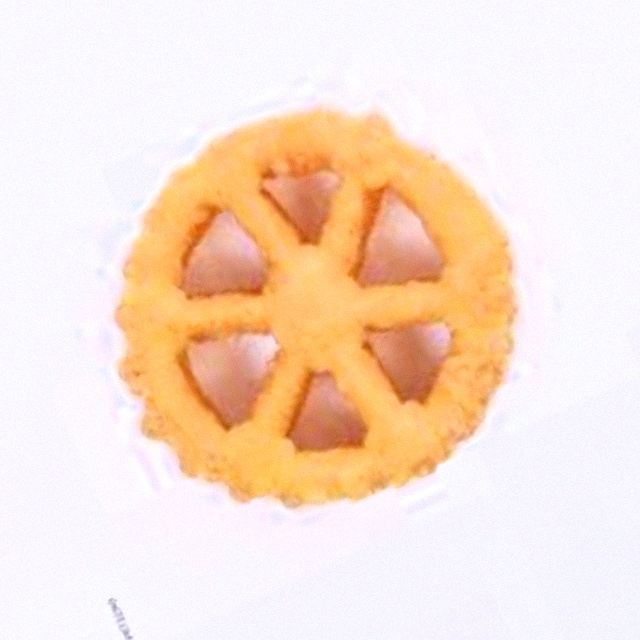Kokis: (99, 69, 541, 571)
